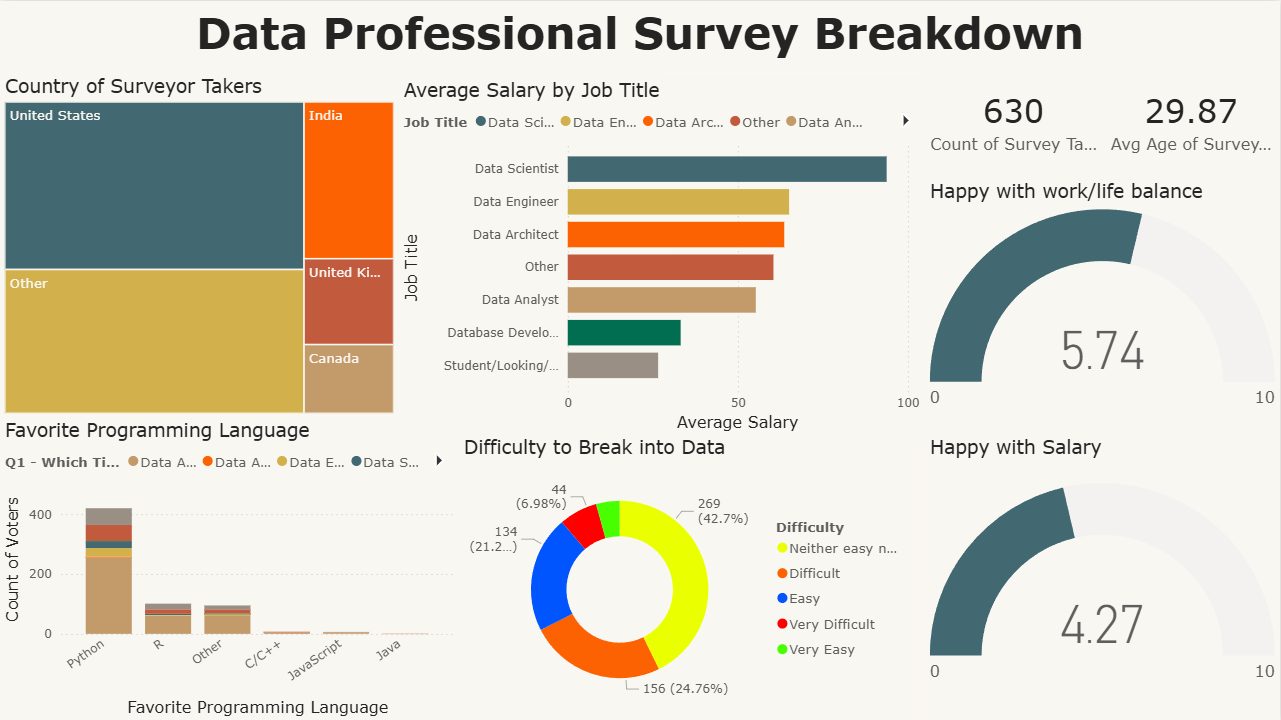

This screenshot's page, from the dashboard's own definition file:
{"tool":"powerbi","page":{"name":"Page 1","canvas":[1280,720],"ordinal":0},"visuals":[{"type":"textbox","box":[0,0,1280,73.8],"z":0},{"type":"card","fields":{"Values":["CountNonNull(Data Professional Survey.Unique ID)"]},"box":[925,60,177.5,118.8],"z":1},{"type":"card","fields":{"Values":["Avg(Data Professional Survey.Q10 - Current Age)"]},"box":[1102.5,60,177.5,118.8],"z":2},{"type":"barChart","title":"Average Salary by Job Title","fields":{"Category":["Data Professional Survey.Q1 - Which Title Best Fits your Current Role?.1"],"Y":["Avg(Data Professional Survey.Average Salary)"],"Series":["Data Professional Survey.Q1 - Which Title Best Fits your Current Role?.1"]},"box":[398.8,77.5,526.2,357.5],"z":3},{"type":"columnChart","title":"Favorite Programming Language","fields":{"Category":["Data Professional Survey.Q5 - Favorite Programming Language.1"],"Y":["CountNonNull(Data Professional Survey.Unique ID)"],"Series":["Data Professional Survey.Q1 - Which Title Best Fits your Current Role?.1"]},"box":[0,417.5,458.8,302.5],"z":4},{"type":"treemap","title":"Country of Surveyor Takers","fields":{"Group":["Data Professional Survey.Q11 - Which Country do you live in?.1"],"Values":["CountNonNull(Data Professional Survey.Q11 - Which Country do you live in?.1)"]},"box":[0,73.8,398.8,343.8],"z":5},{"type":"gauge","title":"Happy with Salary","fields":{"Y":["Avg(Data Professional Survey.Q6 - How Happy are you in your Current Position with the following? (Salary))"],"MinValue":["Min(Data Professional Survey.Q6 - How Happy are you in your Current Position with the following? (Salary))"],"MaxValue":["Max(Data Professional Survey.Q6 - How Happy are you in your Current Position with the following? (Salary))1"]},"box":[925,435,355,273.8],"z":6},{"type":"gauge","title":"Happy with work/life balance","fields":{"Y":["Avg(Data Professional Survey.Q6 - How Happy are you in your Current Position with the following? (Work/Life Balance))"],"MinValue":["Min(Data Professional Survey.Q6 - How Happy are you in your Current Position with the following? (Work/Life Balance))"],"MaxValue":["Max(Data Professional Survey.Q6 - How Happy are you in your Current Position with the following? (Work/Life Balance))"]},"box":[925,178.8,355,238.8],"z":7},{"type":"donutChart","title":"Difficulty to Break into Data","fields":{"Category":["Data Professional Survey.Q7 - How difficult was it for you to break into Data?"],"Y":["CountNonNull(Data Professional Survey.Q7 - How difficult was it for you to break into Data?)"]},"box":[458.8,435,456.2,285],"z":8}]}

Visuals, with their boxes in screenshot pixels (x1, y1, x2, y2), scaled from the page's 1280x720 canvas onto the 1281x720 screenshot:
textbox: detection(0, 0, 1280, 74)
card - CountNonNull(Data Professional Survey.Unique ID): detection(926, 60, 1103, 179)
card - Avg(Data Professional Survey.Q10 - Current Age): detection(1103, 60, 1280, 179)
"Average Salary by Job Title" barChart: detection(399, 78, 926, 435)
"Favorite Programming Language" columnChart: detection(0, 418, 459, 719)
"Country of Surveyor Takers" treemap: detection(0, 74, 399, 418)
"Happy with Salary" gauge: detection(926, 435, 1280, 709)
"Happy with work/life balance" gauge: detection(926, 179, 1280, 418)
"Difficulty to Break into Data" donutChart: detection(459, 435, 916, 719)
